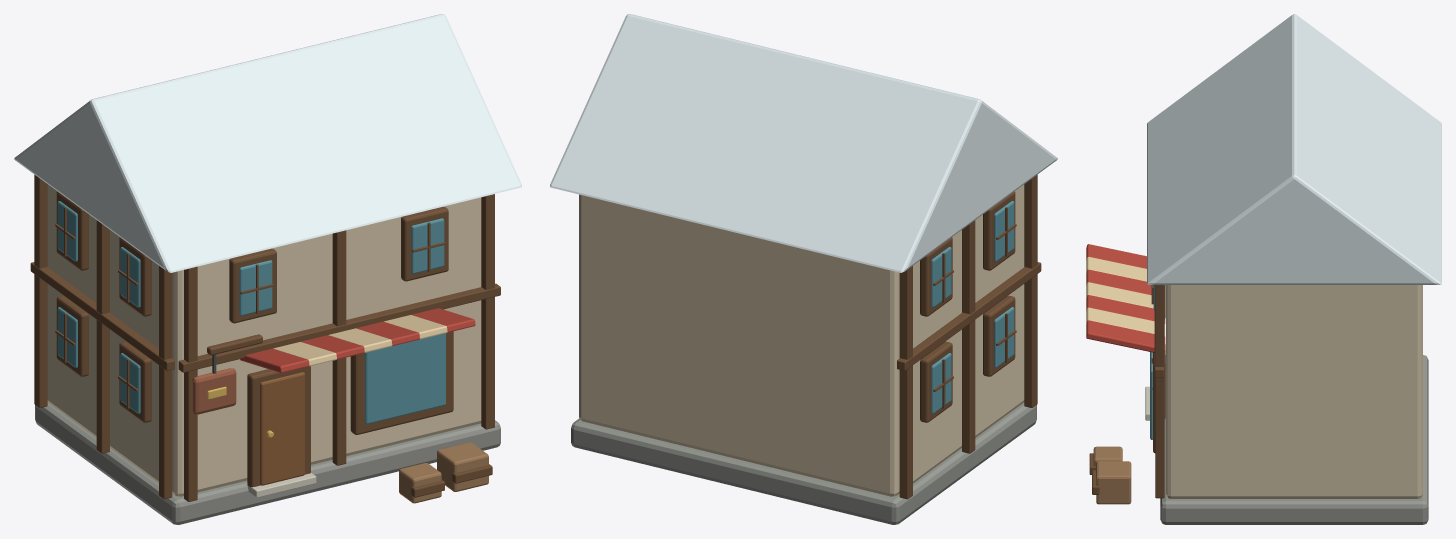
The model's file is snowy-shop-0.glb.
The picture shows the model from 3 angles, left to right: view 1: azimuth 30°, elevation 25°; view 2: azimuth 150°, elevation 25°; view 3: azimuth 270°, elevation 25°; orthographic projection. The views are drawn at different scales.
Visible parts, largest first — view 1: Snow, Ivory plaster, Dark beams, Blue glass, Foundation stone, Door oak, Market red cloth, Aged oak, Market cream cloth, Painted sign, Cut limestone; view 2: Ivory plaster, Snow, Dark beams, Foundation stone, Blue glass; view 3: Snow, Ivory plaster, Foundation stone, Market red cloth, Dark beams, Market cream cloth, Aged oak.
Boxes of the visible parts, bbox=[...] form: Snow: bbox=[14, 14, 521, 272]; Ivory plaster: bbox=[47, 184, 481, 496]; Dark beams: bbox=[30, 174, 500, 501]; Blue glass: bbox=[57, 201, 445, 424]; Foundation stone: bbox=[35, 402, 500, 524]; Door oak: bbox=[260, 372, 304, 485]; Market red cloth: bbox=[240, 308, 475, 373]; Aged oak: bbox=[399, 442, 488, 503]; Market cream cloth: bbox=[273, 315, 447, 366]; Painted sign: bbox=[192, 368, 236, 414]; Cut limestone: bbox=[246, 473, 316, 497]; Ivory plaster: bbox=[579, 184, 1024, 496]; Snow: bbox=[550, 14, 1057, 272]; Dark beams: bbox=[897, 174, 1041, 499]; Foundation stone: bbox=[571, 402, 1036, 524]; Blue glass: bbox=[931, 201, 1014, 413]; Snow: bbox=[1147, 14, 1441, 284]; Ivory plaster: bbox=[1166, 285, 1422, 498]; Foundation stone: bbox=[1160, 355, 1428, 524]; Market red cloth: bbox=[1086, 244, 1165, 352]; Dark beams: bbox=[1089, 285, 1165, 498]; Market cream cloth: bbox=[1086, 257, 1165, 336]; Aged oak: bbox=[1093, 446, 1131, 504].
Bounding box in the file's own units: 4.14 × 4.22 × 3.81.
